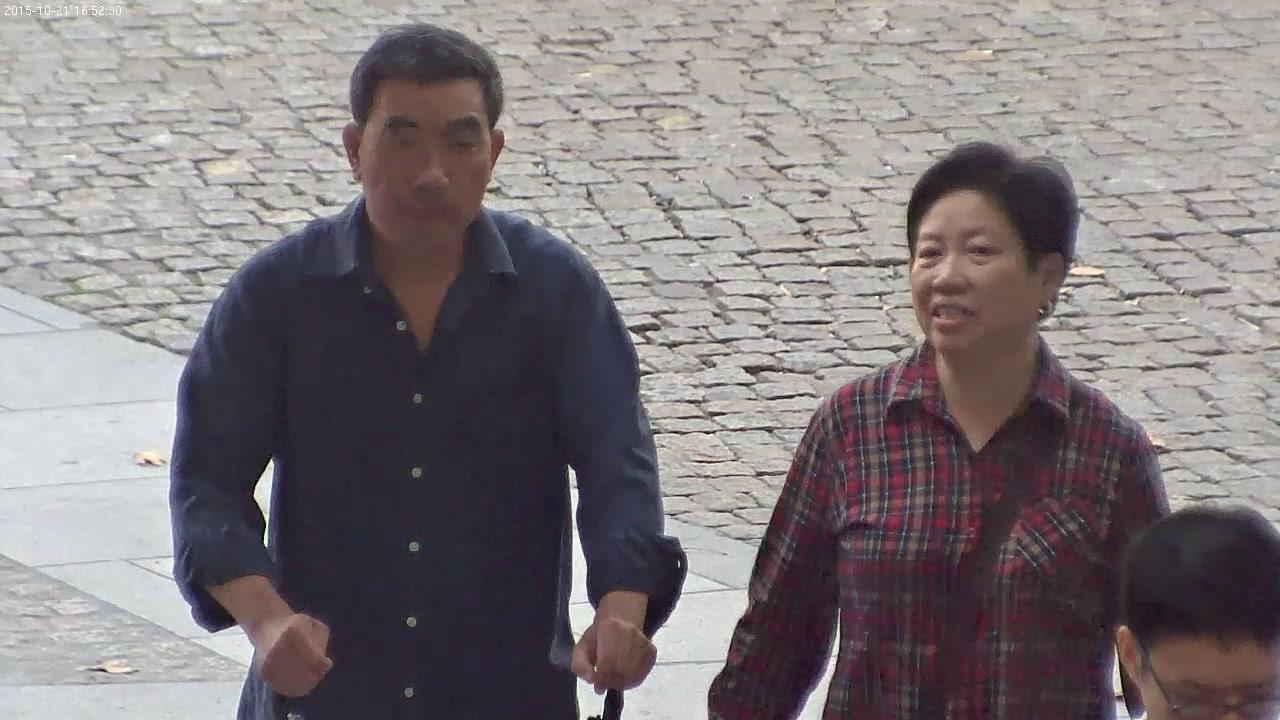person: (168, 26, 685, 720), (703, 143, 1170, 720)
